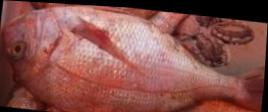fish: (3, 4, 266, 112)
